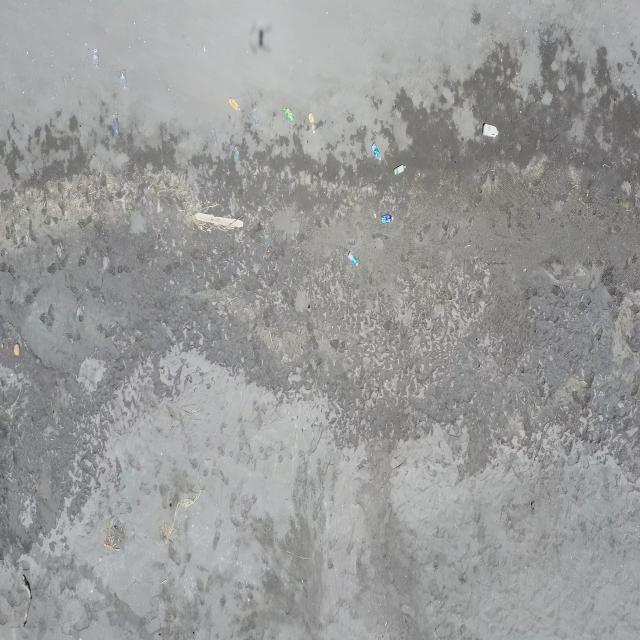Garbage: (160, 491, 200, 543), (192, 212, 241, 227), (103, 517, 123, 550), (251, 24, 270, 51), (23, 573, 31, 626), (249, 108, 260, 128), (111, 112, 119, 136), (483, 123, 496, 136), (392, 163, 406, 175), (307, 111, 315, 131), (281, 107, 292, 121), (227, 98, 239, 110), (347, 252, 357, 266), (88, 48, 96, 65), (380, 213, 392, 223), (372, 143, 379, 159), (232, 145, 239, 161), (119, 70, 125, 88), (209, 128, 216, 143), (258, 28, 263, 47), (12, 344, 19, 355)
